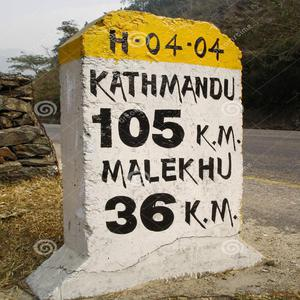kmstone: (57, 4, 244, 263)
